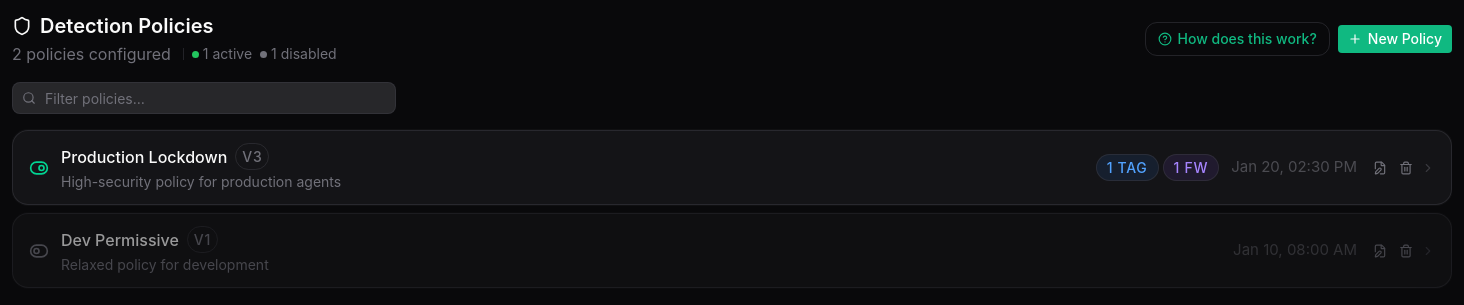
Test case: PoliciesPage › filters policies by search text
Type "production" into the field with placeholder "Filter policies…" at [204, 98], box [12,82,396,114]
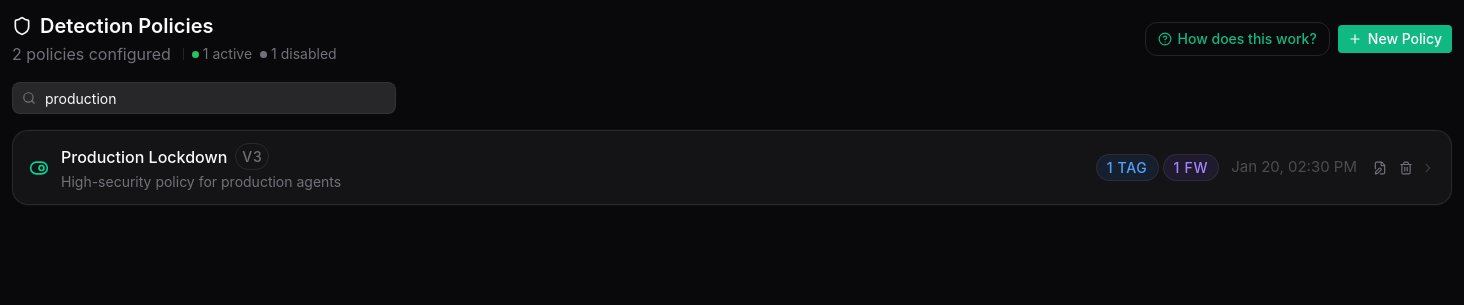
Check: the text "Production Lockdown" is shown, box [61,144,227,168]
Check: the text "Dev Permissive" is gone
